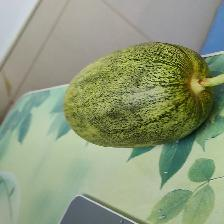gua: (68, 67, 215, 154)
